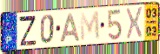0: (39, 14, 55, 46)
5: (107, 7, 123, 41)
A: (59, 12, 81, 44)
M: (79, 9, 101, 43)
X: (126, 5, 144, 40)
Z: (18, 15, 38, 47)
